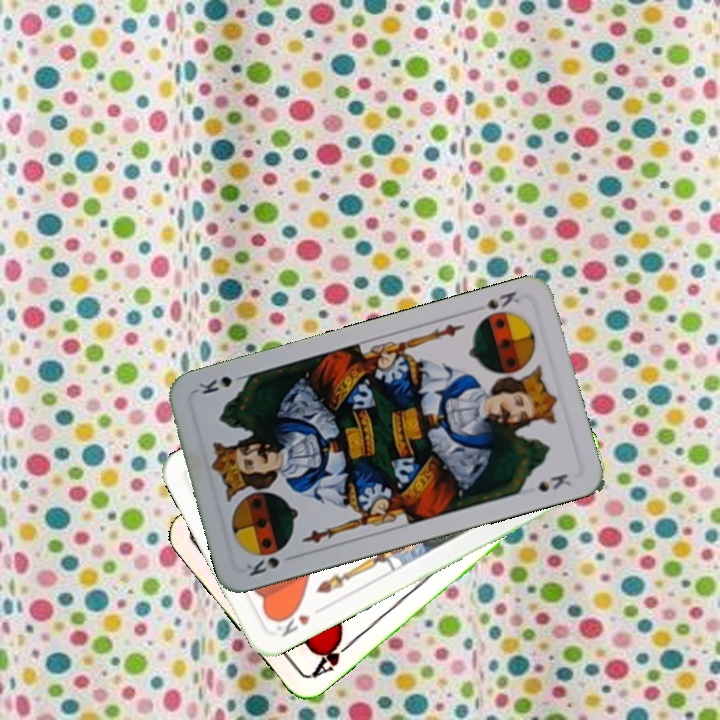HA: (307, 631, 356, 681)
HK: (271, 604, 313, 640)
SK: (242, 551, 299, 579), (482, 287, 522, 312)
